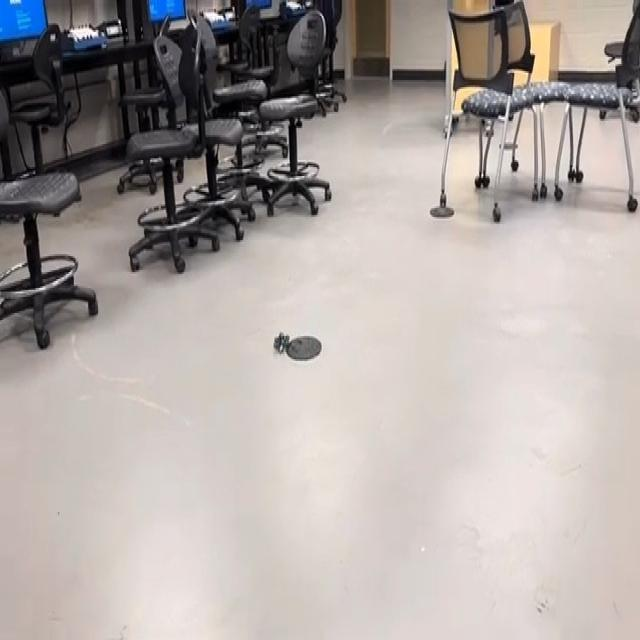drone: (268, 317, 294, 363)
